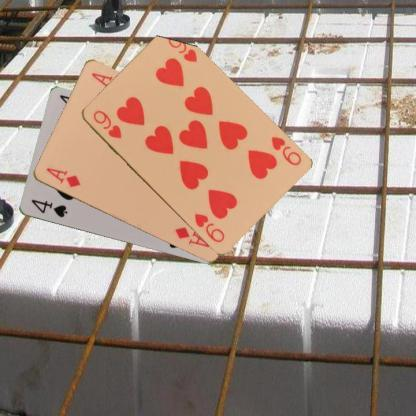4s: (28, 196, 69, 219)
9h: (268, 133, 302, 167), (90, 108, 123, 140)
Ad: (42, 166, 82, 190)
